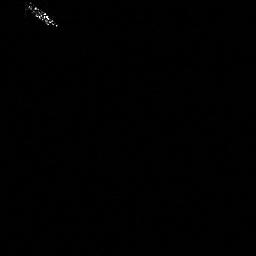ship: (21, 1, 63, 32)
